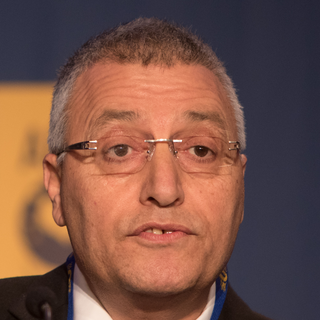eye: (168, 136, 226, 166), (90, 138, 152, 166)
